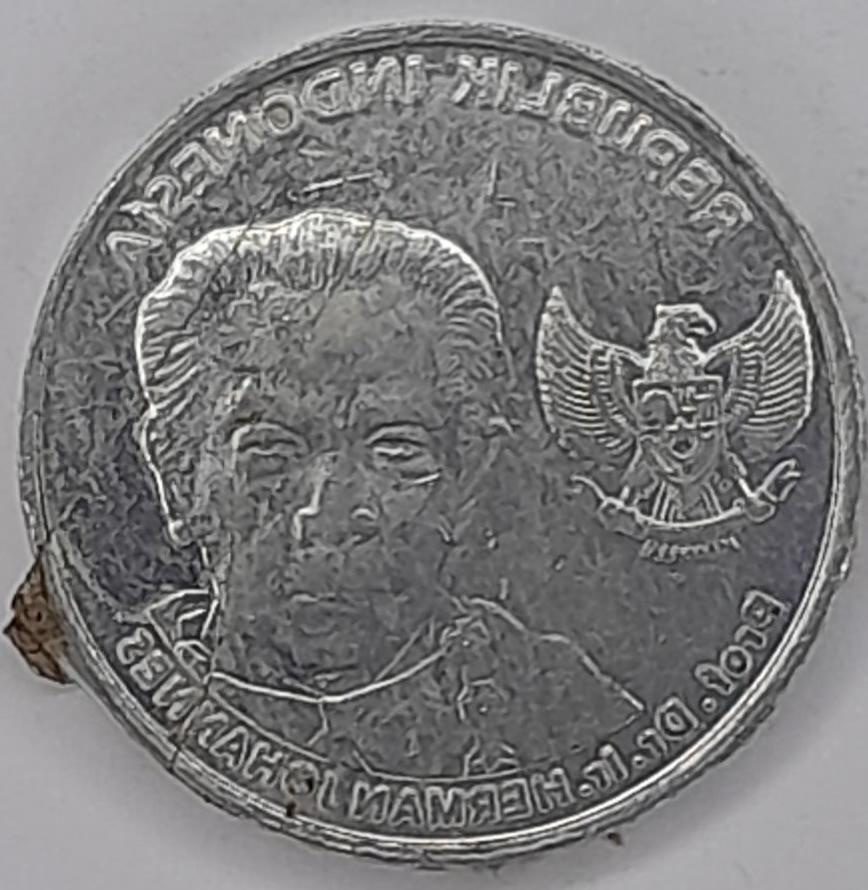coin_100_e2016: (0, 12, 867, 871)
